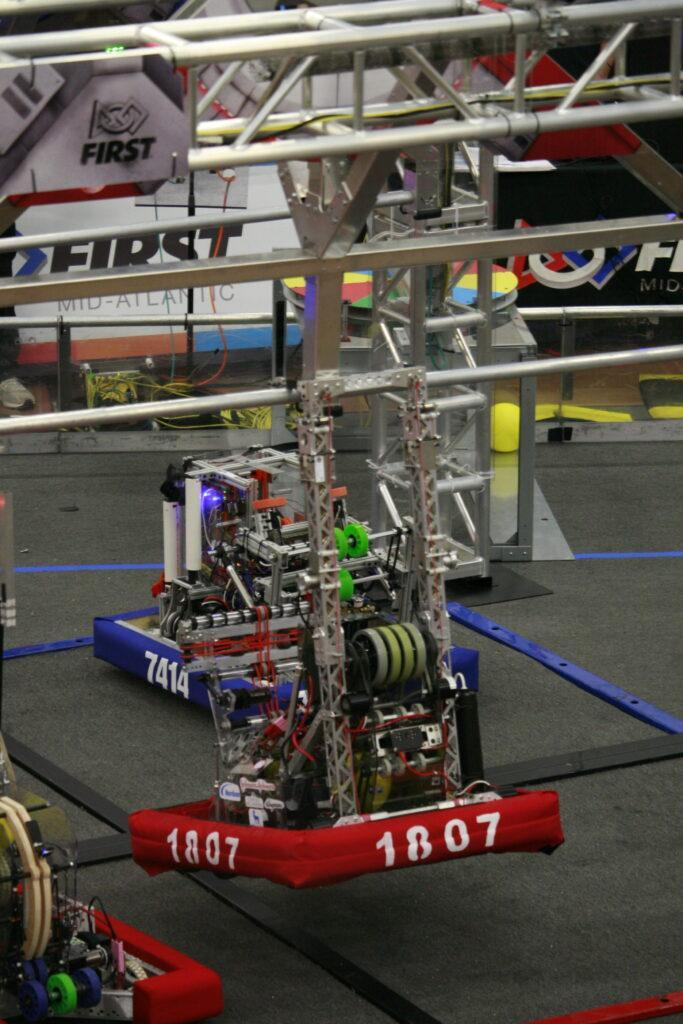robot: (127, 364, 567, 891), (93, 436, 390, 734), (0, 720, 227, 1024)
